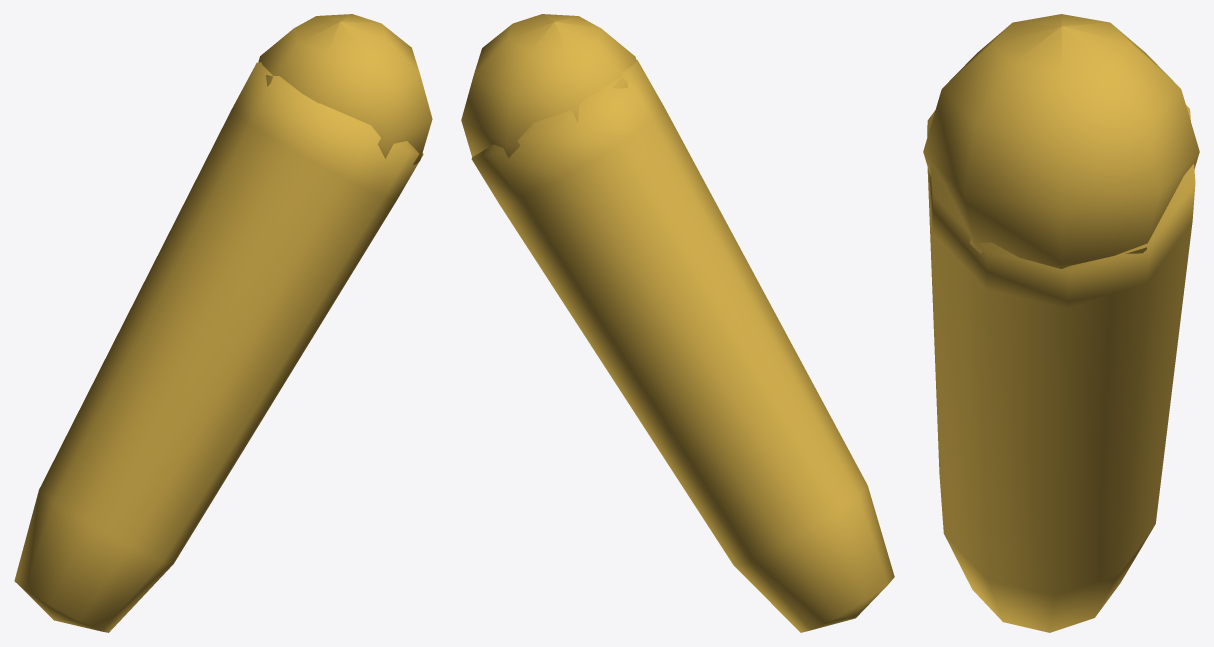
Rendered from upperarm_R.obj.
3 views of the same model, side by side, from view 1: azimuth 30°, elevation 25°; view 2: azimuth 150°, elevation 25°; view 3: azimuth 270°, elevation 25° (orthographic). The views are drawn at different scales.
Visible parts, largest first — view 1: upperarm_R; view 2: upperarm_R; view 3: upperarm_R.
Boxes of the visible parts, x1,y1,x2,y2 form: upperarm_R: (14,14,432,632); upperarm_R: (461,14,894,632); upperarm_R: (923,14,1199,632).
Size of the model in its own units: 0.1744 by 0.2219 by 0.0713.
